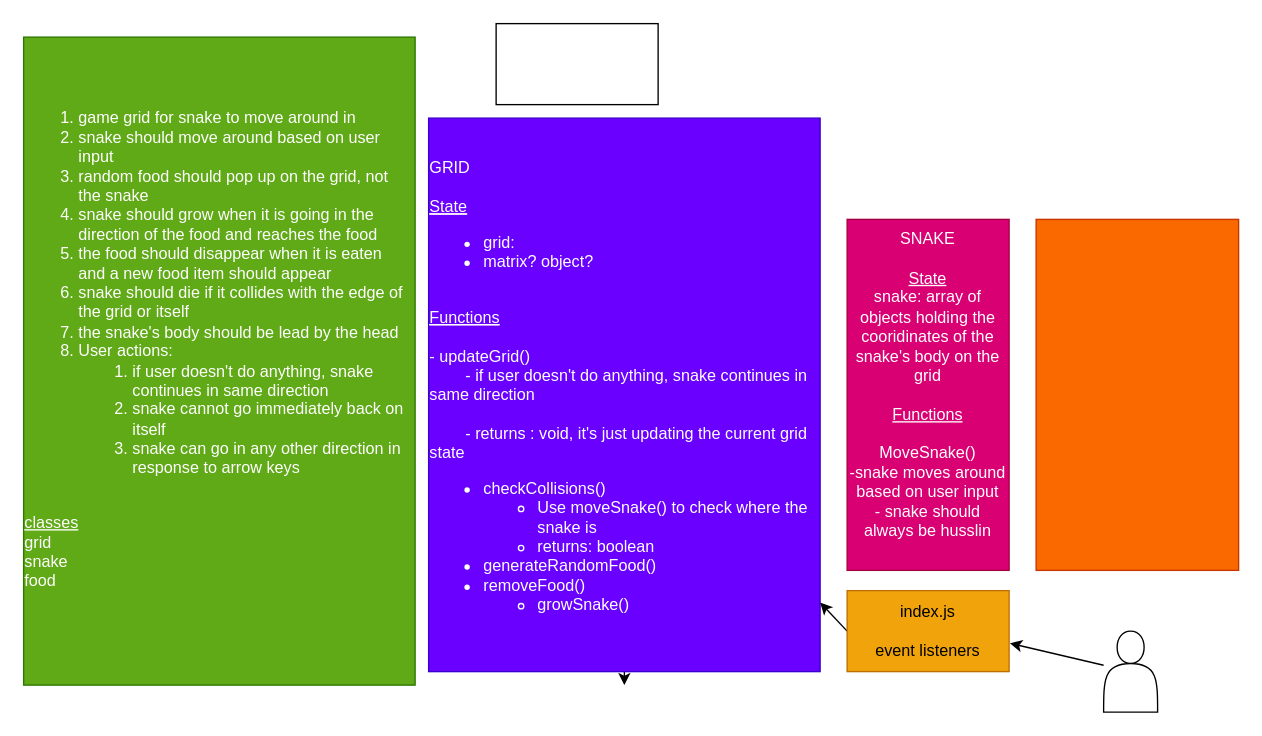
Image size: 1262x736. Some labels were removed from this diagram. Here are the shapes that lost their labels. From the top down, the centre of each, then its label:
pixel 576 63: SNAKE
pixel 1137 394: FOOD State food: random cell on the grid Functions generateRandomFood()
